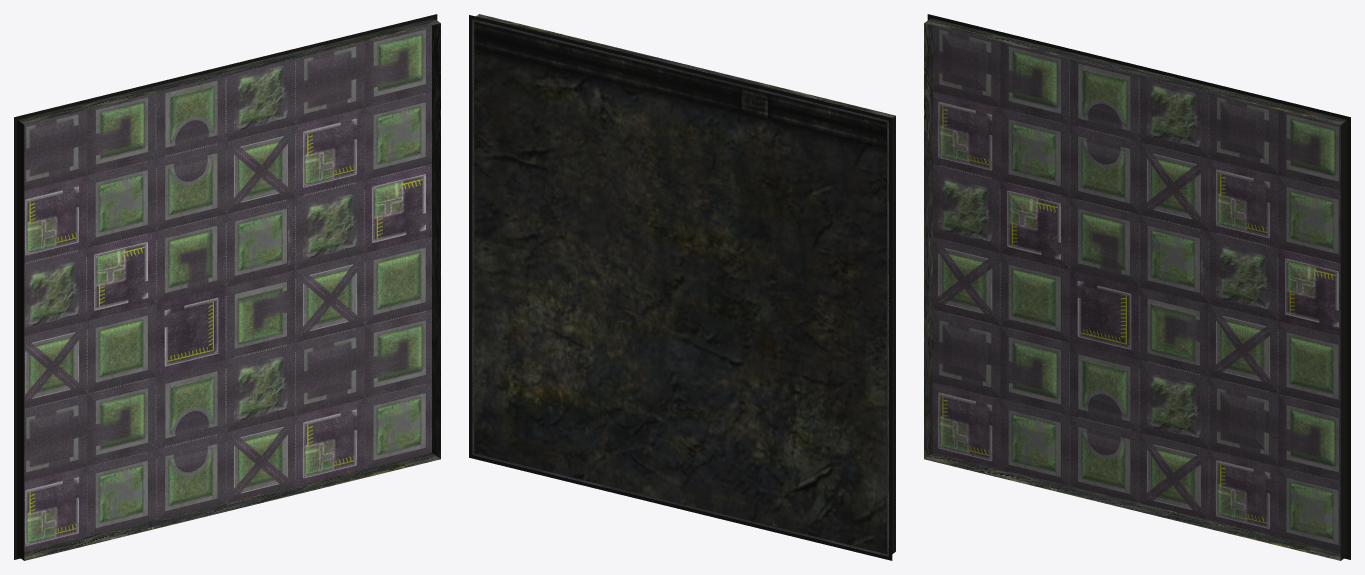
File: streetMap384x384A_wtf.obj
3 views of the same model, side by side, from view 1: azimuth 30°, elevation 25°; view 2: azimuth 150°, elevation 25°; view 3: azimuth 330°, elevation 25° (orthographic).
Visible parts, largest first — view 1: group2, group3; view 2: group3, group2; view 3: group2, group3.
Boxes of the visible parts, x1,y1,x2,y2 form: group2: (24,25,431,551); group3: (14,14,440,560); group3: (469,14,895,560); group2: (472,19,888,556); group2: (933,25,1340,551); group3: (924,14,1350,560).
Size of the model in its own units: 660 by 660 by 18.62.
